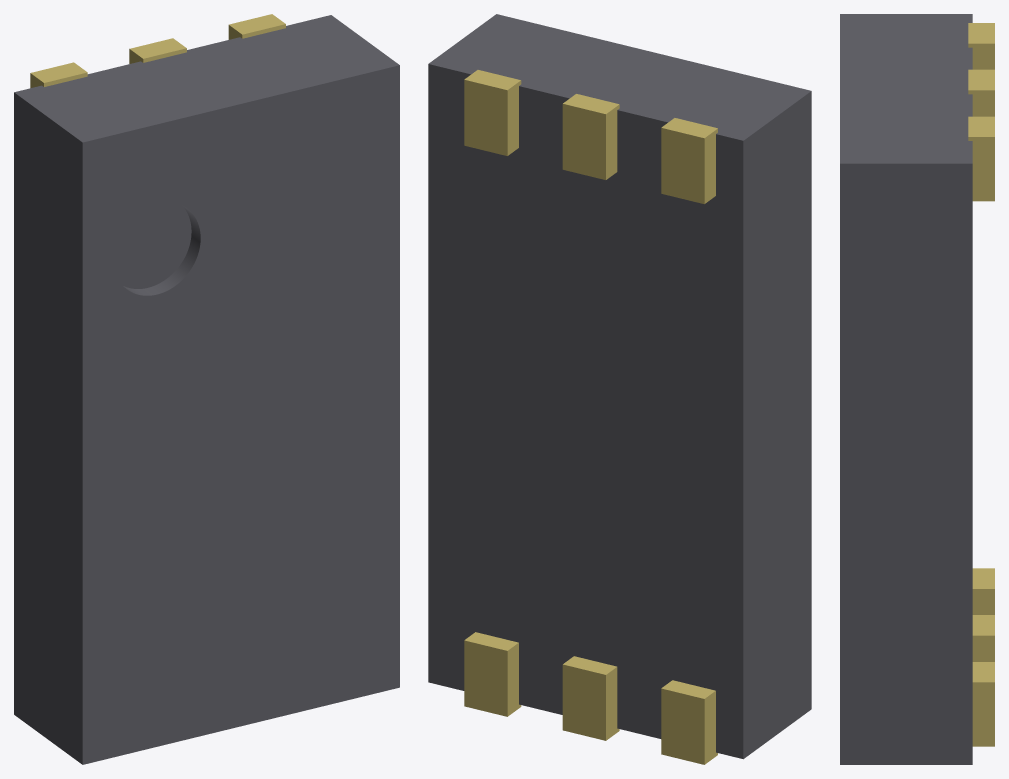
The picture shows the model from 3 angles, left to right: view 1: azimuth 30°, elevation 25°; view 2: azimuth 150°, elevation 25°; view 3: azimuth 270°, elevation 25°; orthographic projection. The views are drawn at different scales.
Visible parts, largest first — view 1: extra, pins; view 2: extra, pins; view 3: extra, pins.
Boxes of the visible parts, x1,y1,x2,y2 form: extra: (14, 15, 399, 764); pins: (30, 14, 285, 88); extra: (428, 14, 811, 759); pins: (464, 70, 717, 764); extra: (840, 14, 972, 764); pins: (968, 23, 994, 746).
Bounding box in the file's own units: 1.6 × 3.04 × 0.7.
